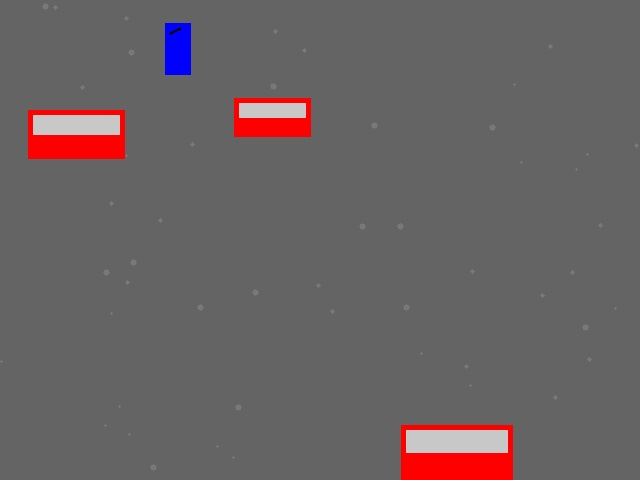car: (401, 425, 512, 480), (28, 110, 124, 158), (234, 98, 310, 136)
motorcycle: (165, 23, 190, 74)
